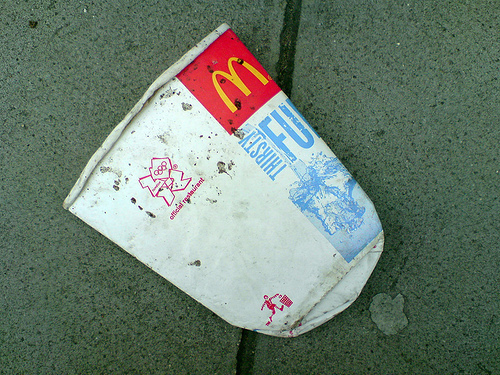litter: (60, 21, 389, 335)
